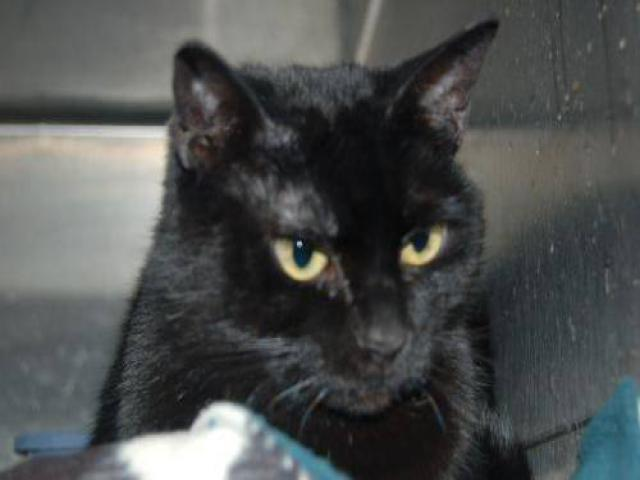cat: (37, 19, 553, 479)
